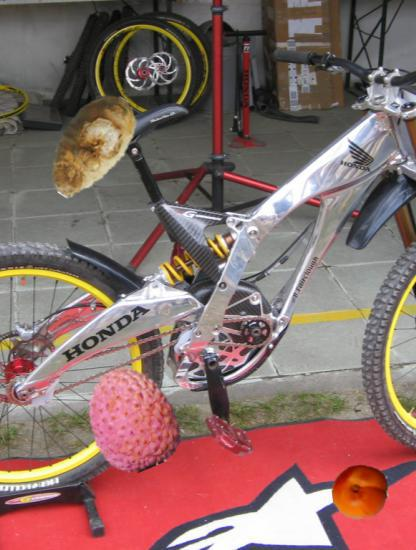Apricot: (332, 464, 389, 521)
Ginger: (35, 89, 150, 204)
Lychee: (79, 364, 186, 471)
